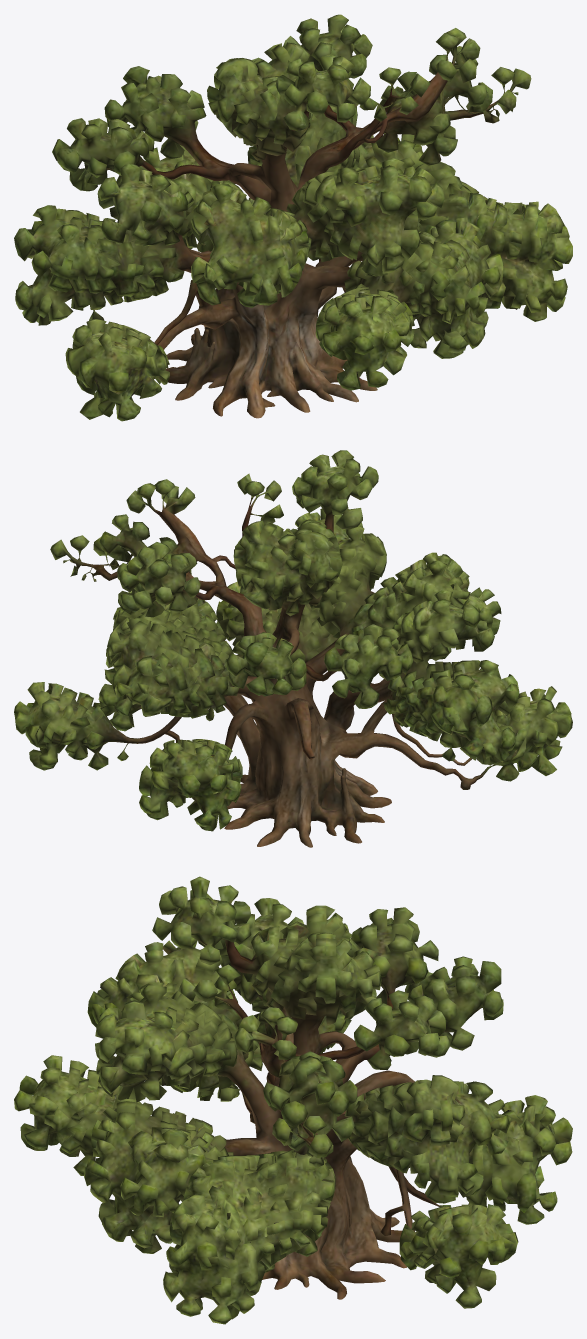
Rendered from stara-maslina.glb.
3 views of the same model, one above another, from view 1: azimuth 30°, elevation 25°; view 2: azimuth 150°, elevation 25°; view 3: azimuth 270°, elevation 25° (orthographic). The views are drawn at different scales.
Parts seen in each view (by area): view 1: tripo_node_827b2b52-22c8-4824-8682-850dc82ba2fb; view 2: tripo_node_827b2b52-22c8-4824-8682-850dc82ba2fb; view 3: tripo_node_827b2b52-22c8-4824-8682-850dc82ba2fb.
Part boxes in pixels (x1=…): tripo_node_827b2b52-22c8-4824-8682-850dc82ba2fb: x1=14, y1=14, x2=572, y2=421; tripo_node_827b2b52-22c8-4824-8682-850dc82ba2fb: x1=14, y1=450, x2=572, y2=847; tripo_node_827b2b52-22c8-4824-8682-850dc82ba2fb: x1=14, y1=876, x2=572, y2=1324.
Bounding box in the file's own units: 0.9995 × 0.6538 × 0.897.
Materials: 1 (1 with a texture image).
